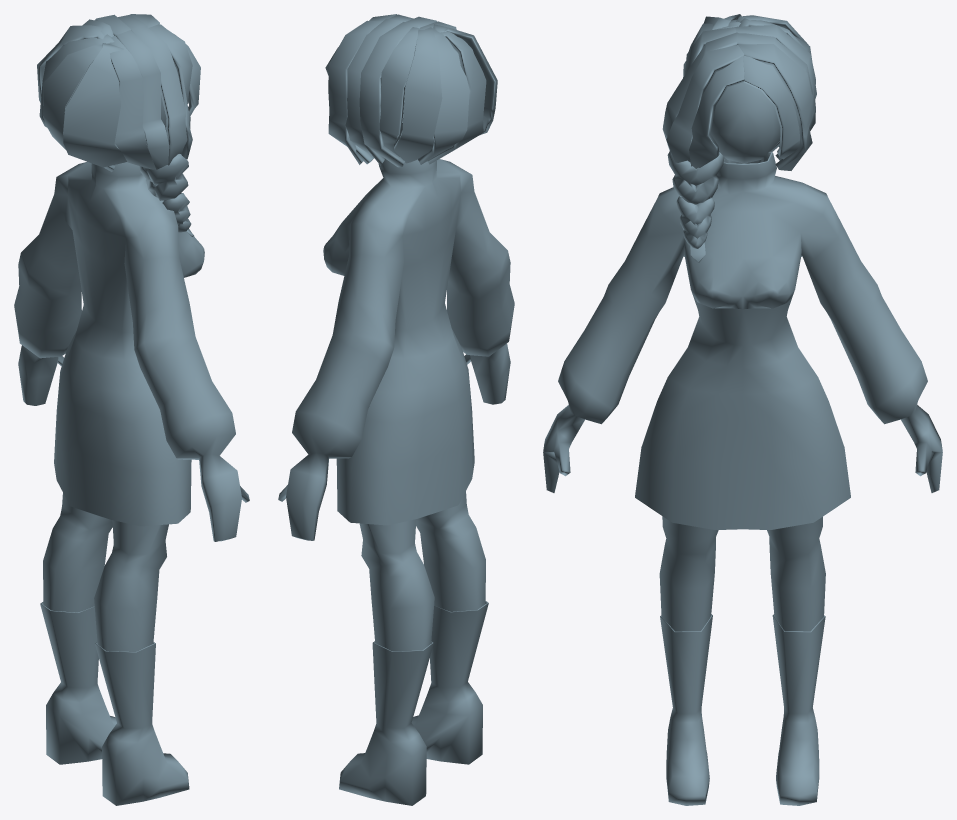
File: Girl.fbx
3 renders of one model, left to right at view 1: azimuth 30°, elevation 25°; view 2: azimuth 150°, elevation 25°; view 3: azimuth 270°, elevation 25°, orthographic. The views are drawn at different scales.
Parts seen in each view (by area): view 1: polySurface11; view 2: polySurface11; view 3: polySurface11.
Part boxes in pixels (x1,y1,x2,y2): polySurface11: (14,14,249,805); polySurface11: (278,14,514,805); polySurface11: (543,14,942,805).
Bounding box in the file's own units: 0.3271 × 1.65 × 0.7883.
